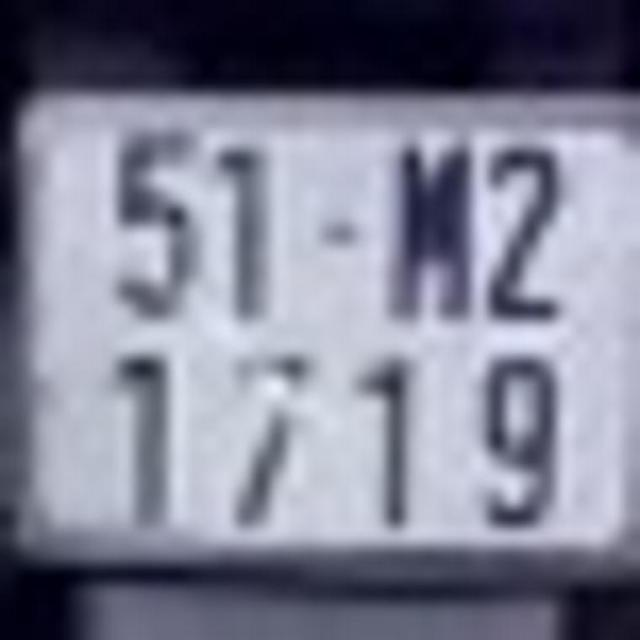1: (116, 342, 178, 526), (214, 131, 269, 320), (364, 358, 416, 524)
2: (487, 140, 570, 326)
5: (108, 125, 202, 330)
7: (221, 348, 310, 530)
9: (484, 343, 562, 532)
M: (398, 142, 478, 326)
